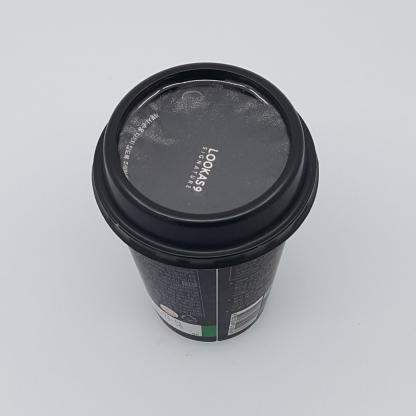-------------: (91, 62, 319, 343)
